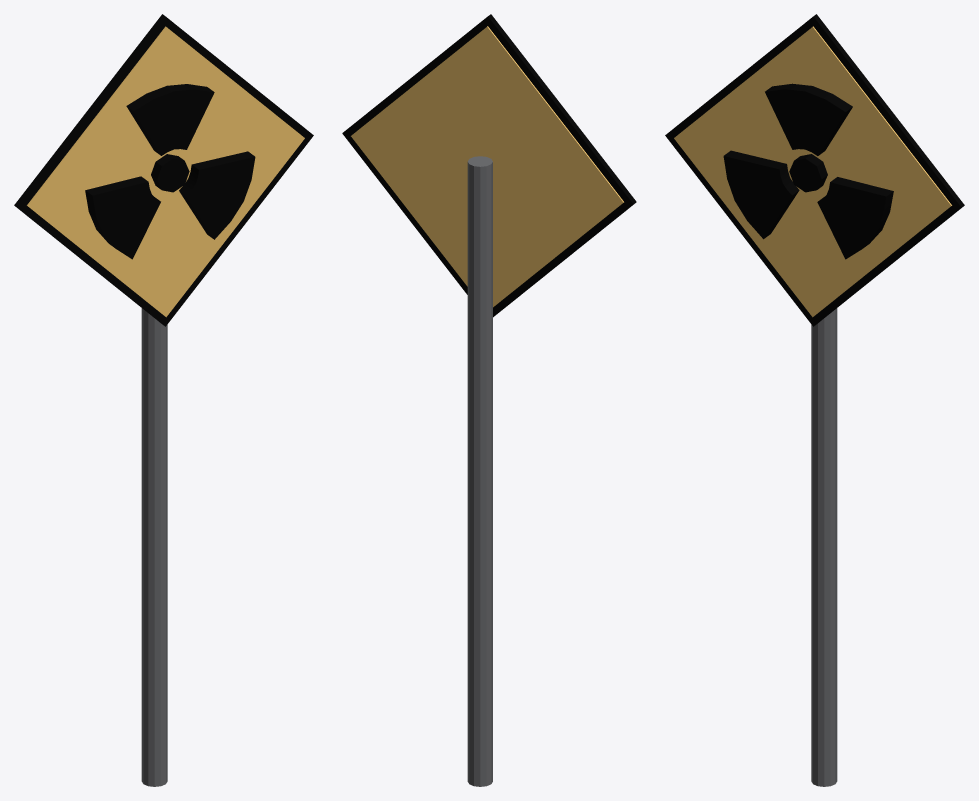
File: Radioactive Sign.fbx
3 renders of one model, left to right at view 1: azimuth 30°, elevation 25°; view 2: azimuth 150°, elevation 25°; view 3: azimuth 330°, elevation 25°, orthographic.
Parts seen in each view (by area): view 1: Radioactive_Sign; view 2: Radioactive_Sign; view 3: Radioactive_Sign.
Part boxes in pixels (x1,y1,x2,y2): Radioactive_Sign: (14,14,313,786); Radioactive_Sign: (342,14,636,786); Radioactive_Sign: (665,14,964,786).
Bounding box in the file's own units: 104 × 260 × 15.7.
